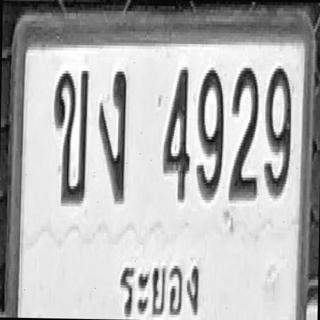A02: (52, 68, 89, 204)
A07: (97, 68, 126, 201)
N02: (228, 65, 259, 198)
N04: (162, 66, 191, 199)
N09: (196, 67, 224, 197), (264, 65, 292, 195)
P53: (109, 235, 203, 320)
